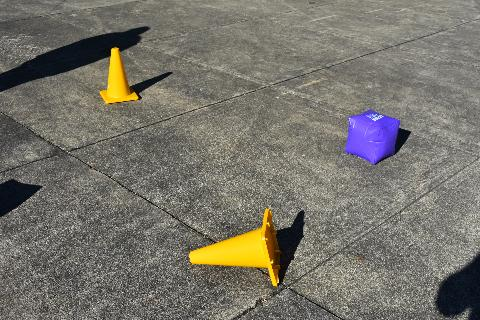cone: (189, 208, 283, 288), (99, 48, 141, 106)
cube: (345, 110, 401, 167)
